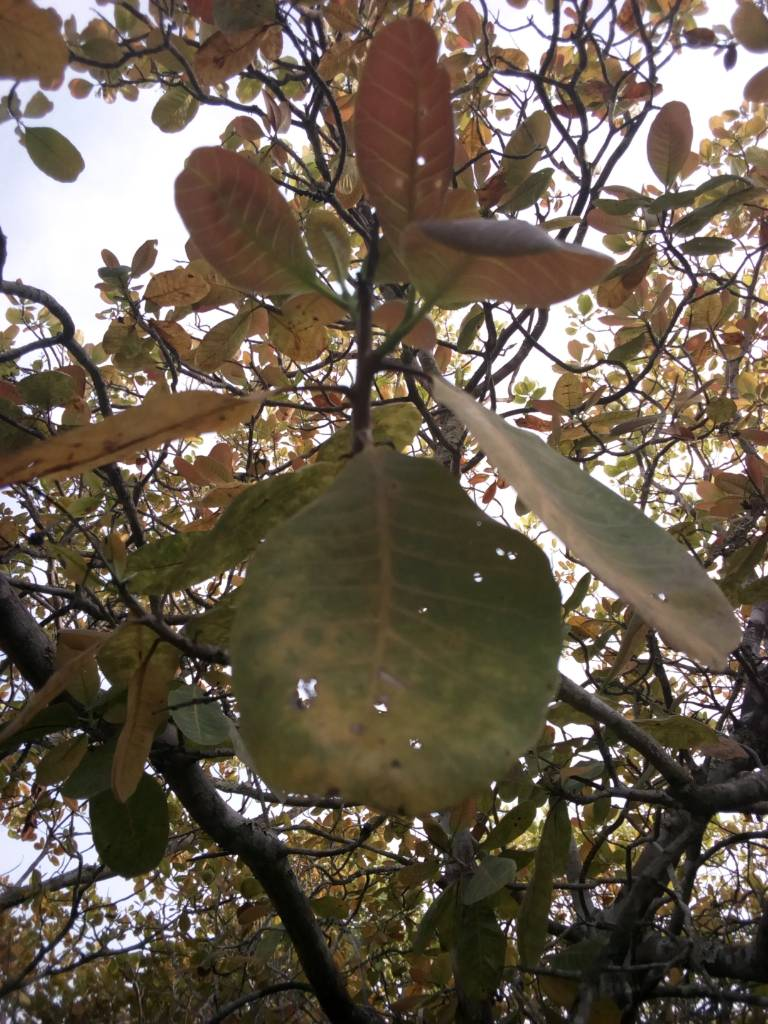Alternariose: (229, 439, 568, 813)
